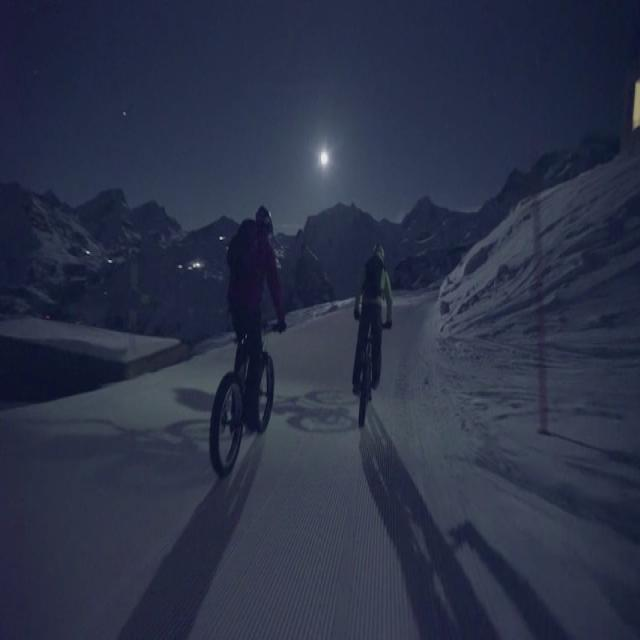Bicycle: (204, 310, 294, 490), (343, 344, 427, 433)
People: (228, 195, 286, 388), (353, 237, 424, 357)
